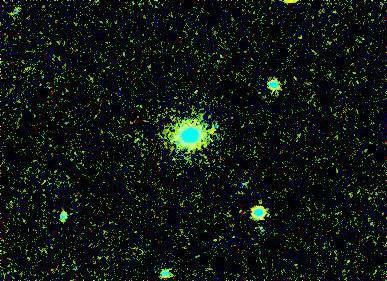star: (197, 116, 227, 146)
